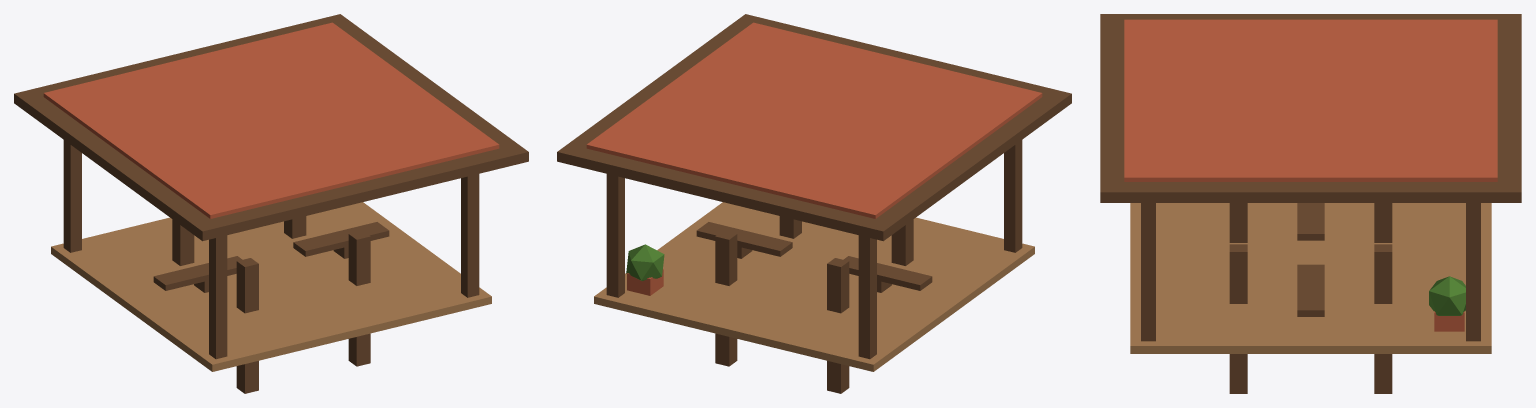
Rendered from building.waterfront-pavilion.glb.
The picture shows the model from 3 angles, left to right: view 1: azimuth 30°, elevation 25°; view 2: azimuth 150°, elevation 25°; view 3: azimuth 270°, elevation 25°; orthographic projection. The views are drawn at different scales.
Parts seen in each view (by area): view 1: building.waterfront-pavilion; view 2: building.waterfront-pavilion; view 3: building.waterfront-pavilion.
Boxes of the visible parts, x1,y1,x2,y2 form: building.waterfront-pavilion: (14,14,528,393); building.waterfront-pavilion: (557,14,1071,393); building.waterfront-pavilion: (1100,14,1521,393).
Bounding box in the file's own units: 7 × 4.78 × 7.
